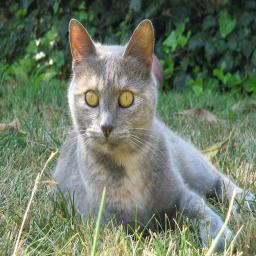catnose: (98, 120, 116, 140)
